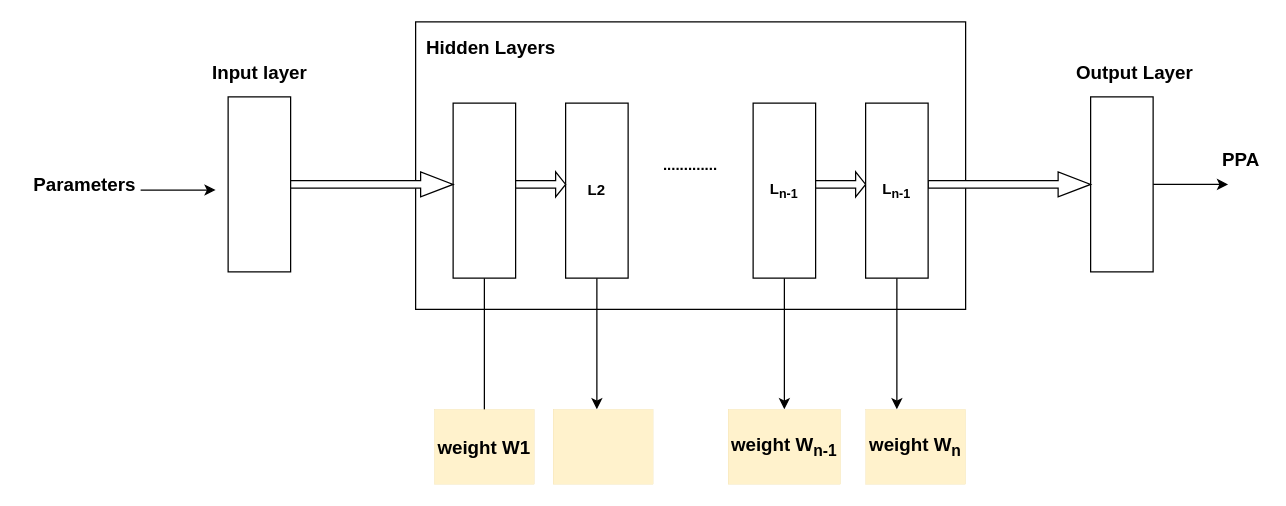
This 1286x506 diagram has some shape labels left out. Here are the shapes that lost their labels. From the top down, the box of each, then its label:
(452, 102, 516, 278): L1
(552, 409, 652, 484): weight W2
